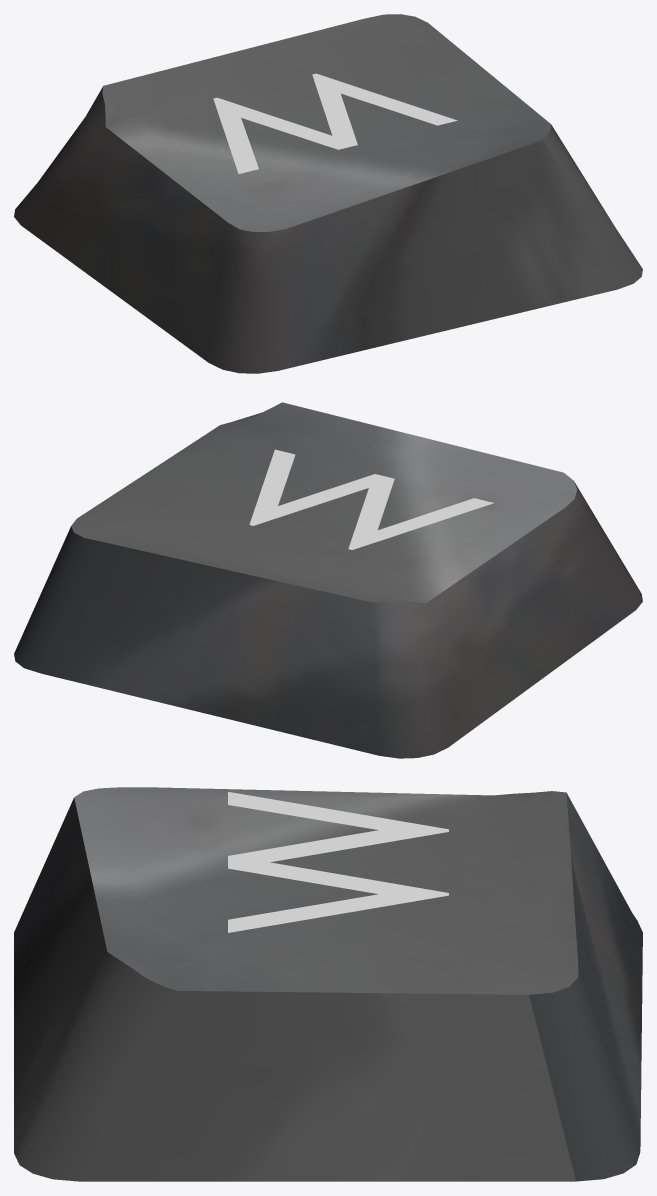
Rendered from W Rock.fbx.
3 renders of one model, top to bottom at view 1: azimuth 30°, elevation 25°; view 2: azimuth 150°, elevation 25°; view 3: azimuth 270°, elevation 25°, orthographic. The views are drawn at different scales.
Parts seen in each view (by area): view 1: keyboard.001, Text.002; view 2: keyboard.001, Text.002; view 3: keyboard.001, Text.002.
Boxes of the visible parts, bbox=[...] form: keyboard.001: bbox=[14, 14, 642, 373]; Text.002: bbox=[213, 73, 457, 173]; keyboard.001: bbox=[14, 402, 642, 758]; Text.002: bbox=[249, 449, 493, 549]; keyboard.001: bbox=[14, 787, 642, 1181]; Text.002: bbox=[228, 792, 448, 932].
Bounding box in the file's own units: 1.56 × 0.4657 × 1.51.
